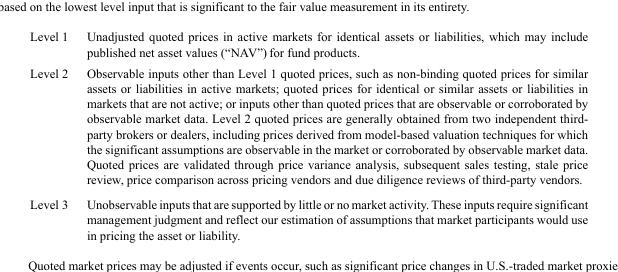table: (29, 29, 587, 241)
table column: (76, 29, 587, 241), (29, 29, 76, 241)
table row: (29, 62, 587, 191), (29, 191, 587, 241), (29, 29, 587, 62)
